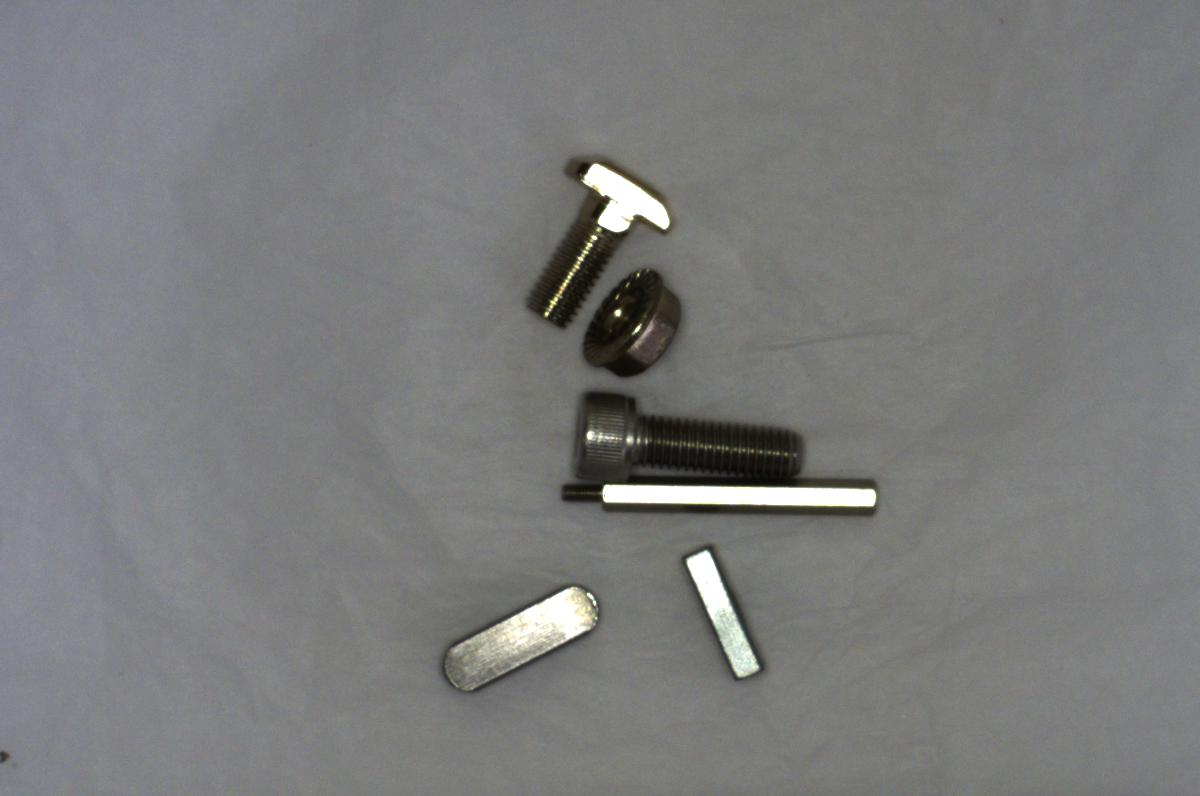Flange nut: (574, 263, 700, 381)
Hexagon screw: (565, 382, 811, 492)
Hexagonal steel column: (555, 471, 889, 523)
Keybar: (419, 573, 621, 699)
Rectangular nut: (673, 533, 775, 687)
T-shaped screw: (514, 148, 674, 336)
